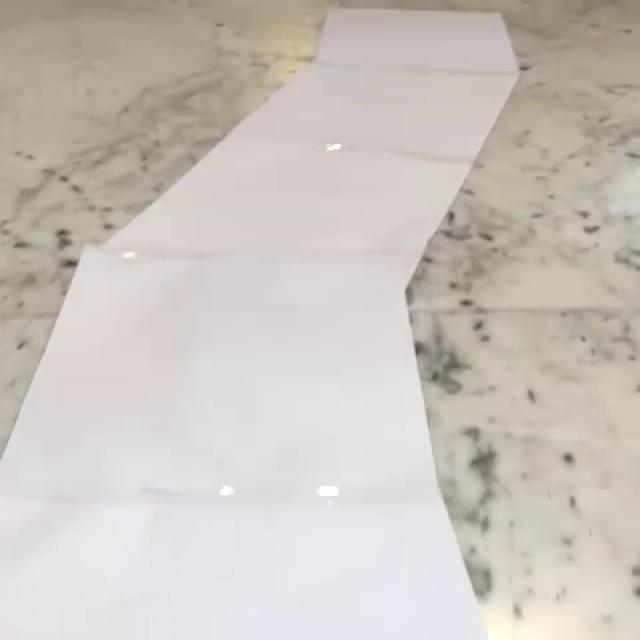road: (3, 10, 517, 640)
